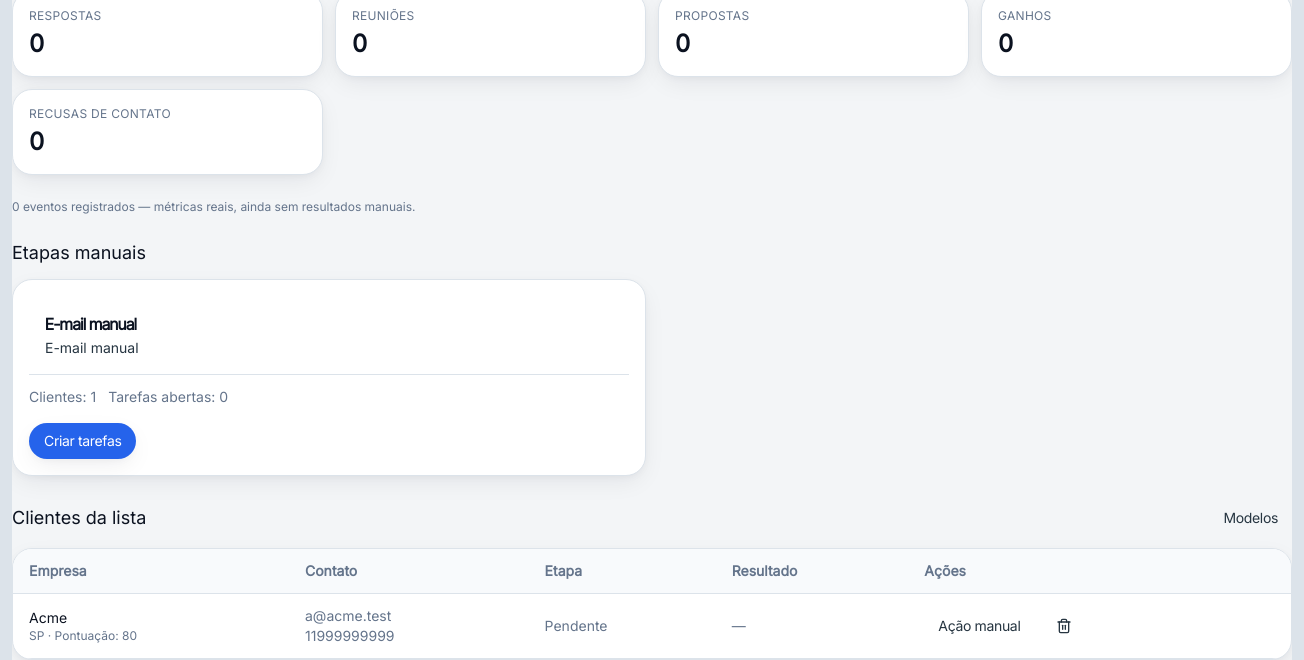
Test case: CampaignDetailPage › previews templates in assisted mode only
(page scrolled)
Click the button "Ação manual" at (979, 626), box left=924, top=608, right=1034, bottom=644
(page scrolled)
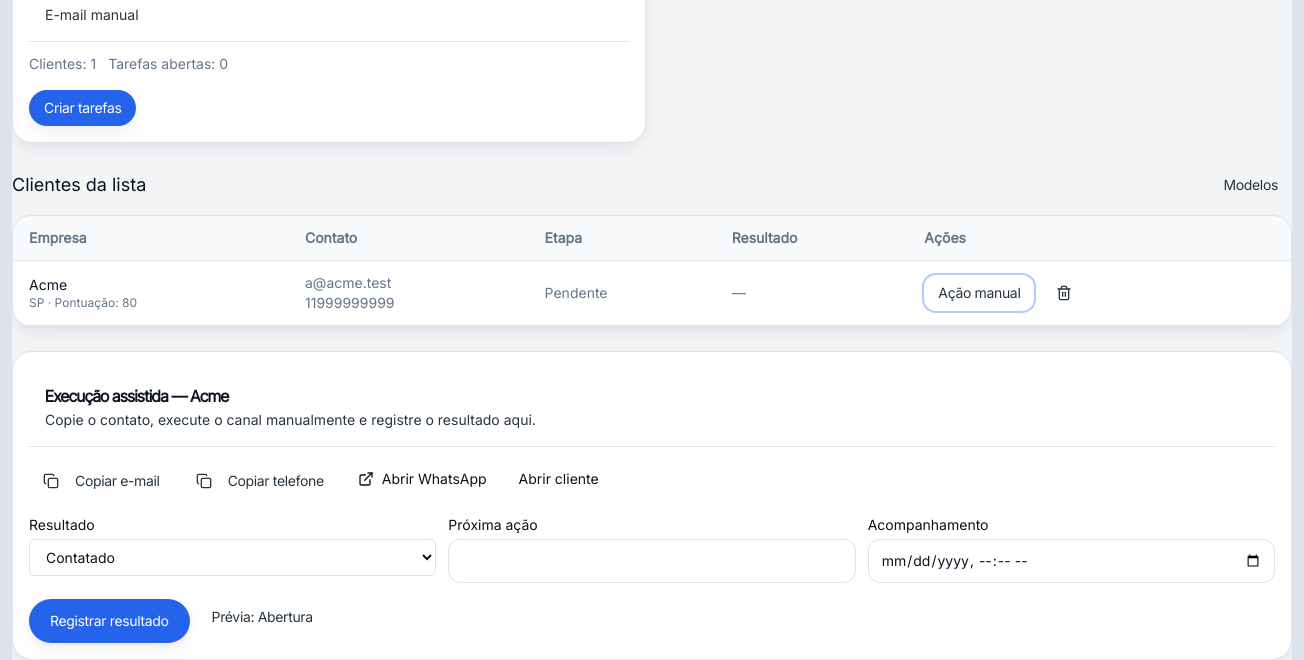
Click the button "Prévia: Abertura" at (262, 617), box left=198, top=599, right=327, bottom=635
(page scrolled)
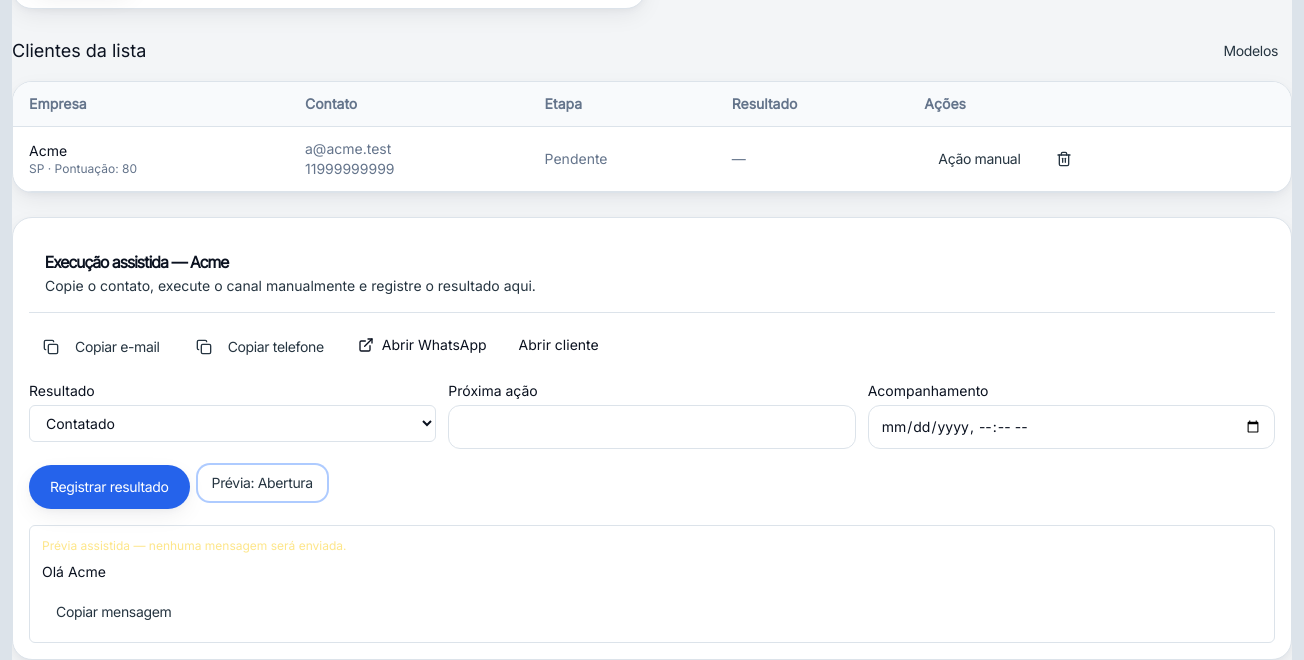
Expected: the text "Prévia assistida — nenhuma mensagem será enviada." is shown, left=42, top=538, right=346, bottom=553
